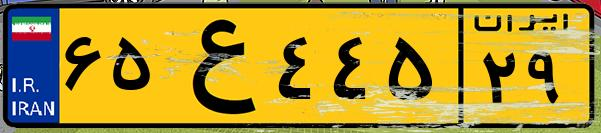2: (475, 38, 525, 113)
4: (270, 28, 330, 110), (330, 28, 385, 110)
5: (385, 28, 445, 110), (110, 28, 158, 98)
6: (57, 26, 110, 100)
9: (525, 38, 570, 115)
ع: (158, 12, 270, 120)
